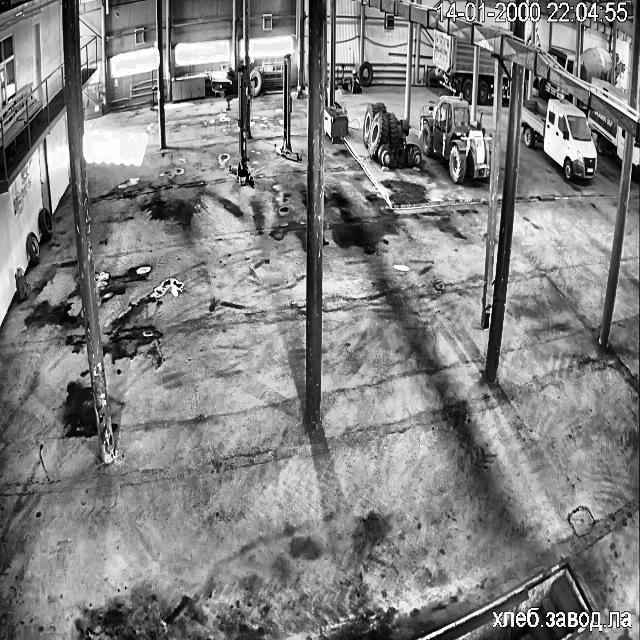car lift: (230, 67, 253, 186), (275, 54, 298, 161)
fire extinguisher: (16, 268, 26, 300)
tractor: (419, 96, 489, 182), (362, 102, 420, 166)
truck: (521, 100, 596, 180), (432, 28, 473, 100), (588, 108, 625, 158), (580, 46, 611, 83), (476, 46, 494, 103), (592, 80, 628, 103), (534, 78, 570, 99), (548, 45, 574, 73), (498, 60, 511, 99), (632, 132, 640, 179), (616, 59, 622, 76)
